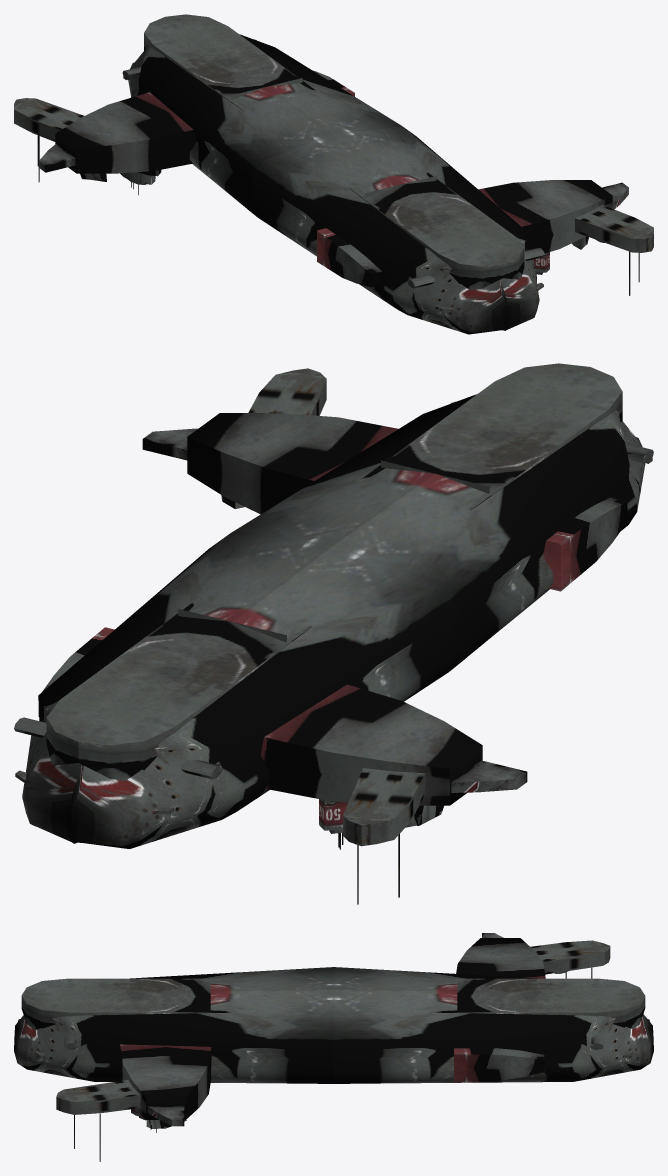
File: Vulfar_Station.fbx
The picture shows the model from 3 angles, top to bottom: view 1: azimuth 30°, elevation 25°; view 2: azimuth 150°, elevation 25°; view 3: azimuth 270°, elevation 25°; orthographic projection. The views are drawn at different scales.
Parts seen in each view (by area): view 1: Vulfar_Station; view 2: Vulfar_Station; view 3: Vulfar_Station.
Part boxes in pixels (<box>): Vulfar_Station: <box>14,14,653,334</box>; Vulfar_Station: <box>14,363,653,904</box>; Vulfar_Station: <box>14,933,653,1161</box>.
Size of the model in its own units: 552 by 135 by 799.
1 material, 1 textured.
